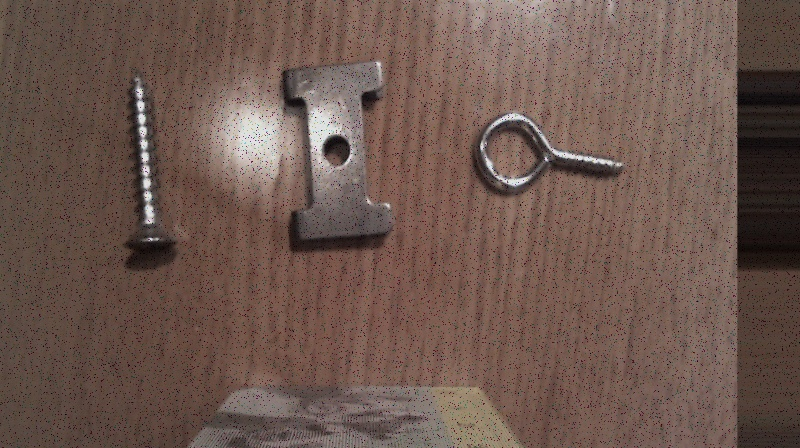O001: (470, 108, 629, 197)
O002: (278, 57, 395, 248)
S001: (114, 67, 187, 258)
